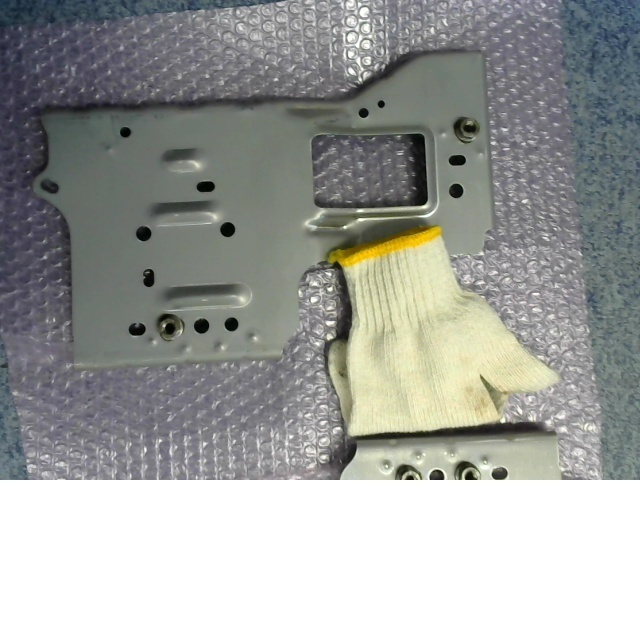dog: (158, 313, 184, 342), (453, 117, 479, 142)
